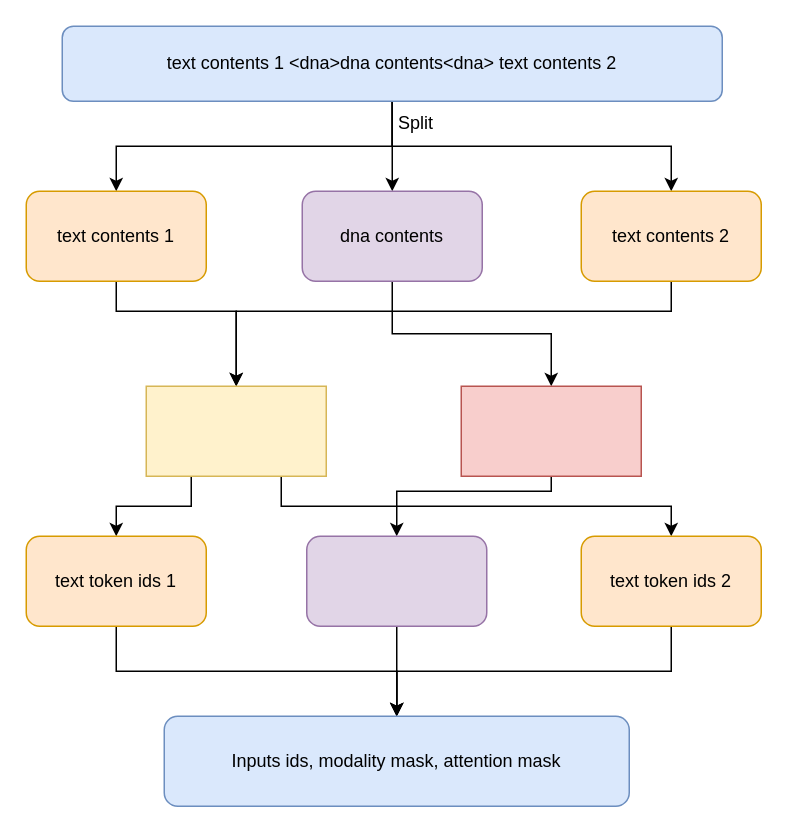
The diagram is 788 pixels wide and 833 high, and some of its shapes have lost their labels. The centre of each missing label's shape, as x and y in pixels:
dna token ids: (x=396, y=580)
DNA Tokenizer: (x=550, y=430)
Text Tokenizer: (x=235, y=430)
